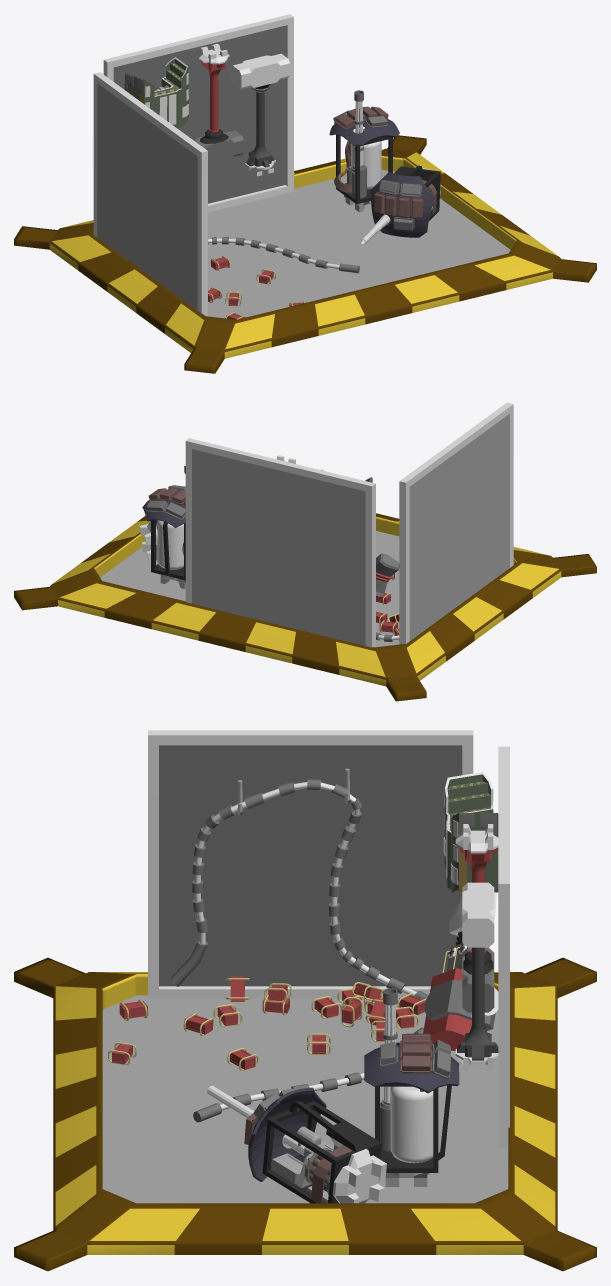
The model's file is weaponry.fbx.
3 renders of one model, top to bottom at view 1: azimuth 30°, elevation 25°; view 2: azimuth 150°, elevation 25°; view 3: azimuth 270°, elevation 25°, orthographic. The views are drawn at different scales.
Visible parts, largest first — view 1: rim, floor, wall_02, wall_01, Cube.002 (×2), Cube.000, Carbine, Cube111_default, cable, batteries_geo; view 2: wall_01, rim, wall_02, floor, Cube.000, Cube43_sep57_default, batteries_geo; view 3: wall_02, rim, floor, Carbine, Cube.000, Cube.002 (×2), batteries_geo, cable, wall_01, Cube111_default, Cube43_sep51_default, Cube43_extract58_default.
Boxes of the visible parts, bbox=[...] form: rim: bbox=[14, 135, 596, 373]; floor: bbox=[208, 170, 510, 318]; wall_02: bbox=[93, 72, 207, 316]; wall_01: bbox=[103, 14, 293, 212]; Cube.002 (×2): bbox=[194, 43, 290, 176]; Cube.000: bbox=[329, 90, 399, 212]; Carbine: bbox=[360, 165, 440, 245]; Cube111_default: bbox=[124, 57, 188, 128]; cable: bbox=[208, 237, 359, 273]; batteries_geo: bbox=[208, 256, 305, 319]; wall_01: bbox=[185, 438, 375, 647]; rim: bbox=[14, 466, 596, 701]; wall_02: bbox=[399, 402, 513, 644]; floor: bbox=[100, 531, 399, 647]; Cube.000: bbox=[142, 485, 185, 588]; Cube43_sep57_default: bbox=[376, 553, 399, 596]; batteries_geo: bbox=[376, 573, 399, 640]; wall_02: bbox=[148, 730, 473, 998]; rim: bbox=[14, 957, 596, 1271]; floor: bbox=[102, 995, 508, 1203]; Carbine: bbox=[207, 1085, 386, 1203]; Cube.000: bbox=[364, 988, 459, 1186]; Cube.002 (×2): bbox=[455, 824, 498, 1071]; batteries_geo: bbox=[108, 976, 425, 1070]; cable: bbox=[170, 779, 428, 1122]; wall_01: bbox=[498, 746, 509, 1147]; Cube111_default: bbox=[443, 772, 498, 892]; Cube43_sep51_default: bbox=[423, 968, 471, 1050]; Cube43_extract58_default: bbox=[424, 979, 495, 1031].
Size of the model in its own units: 228 by 95.76 by 185.
